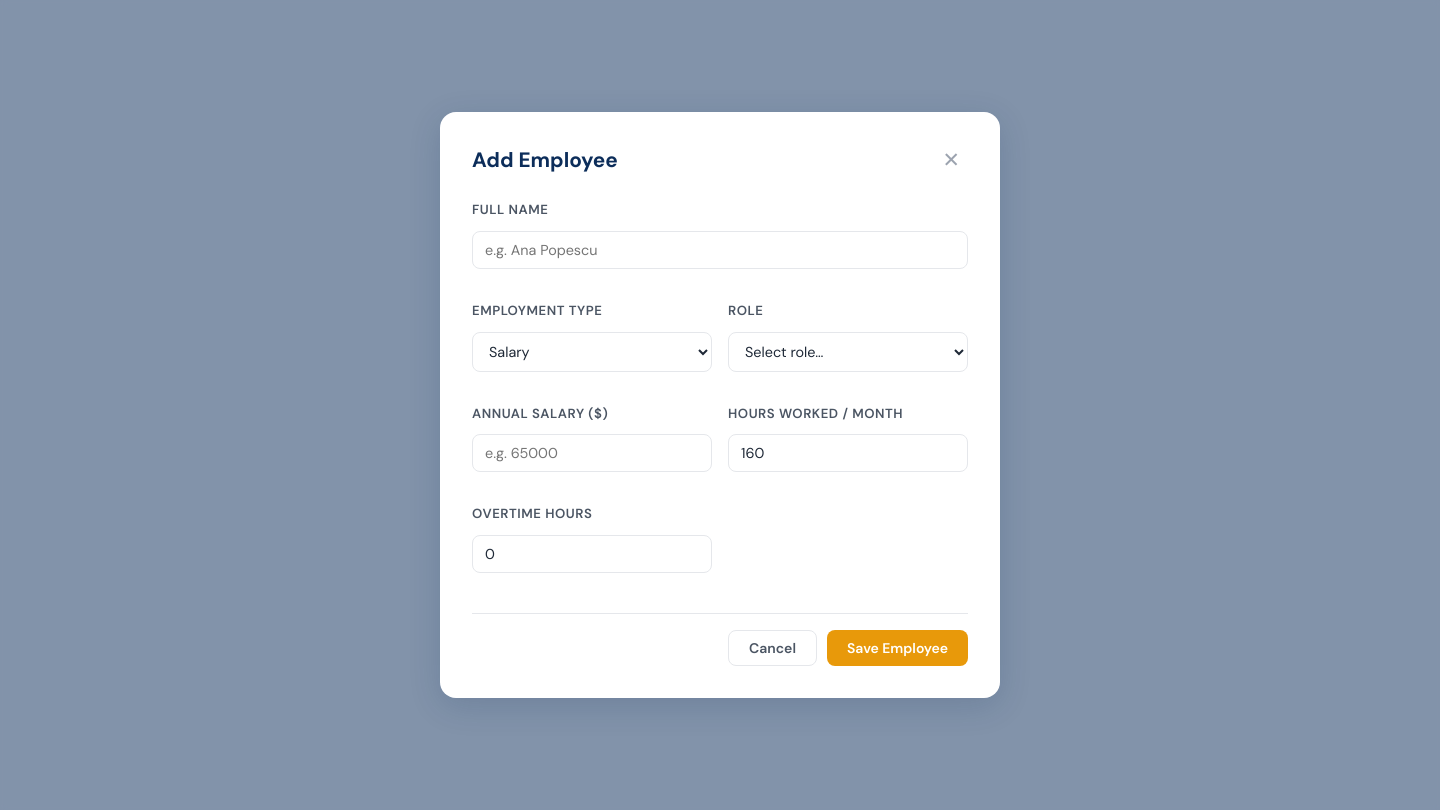
Scenario: EmployeeModal › shows name and role errors when submitted empty
This screenshot has width=1440, height=810.
Click the button "Save Employee" at (898, 648), box [827, 630, 968, 666]
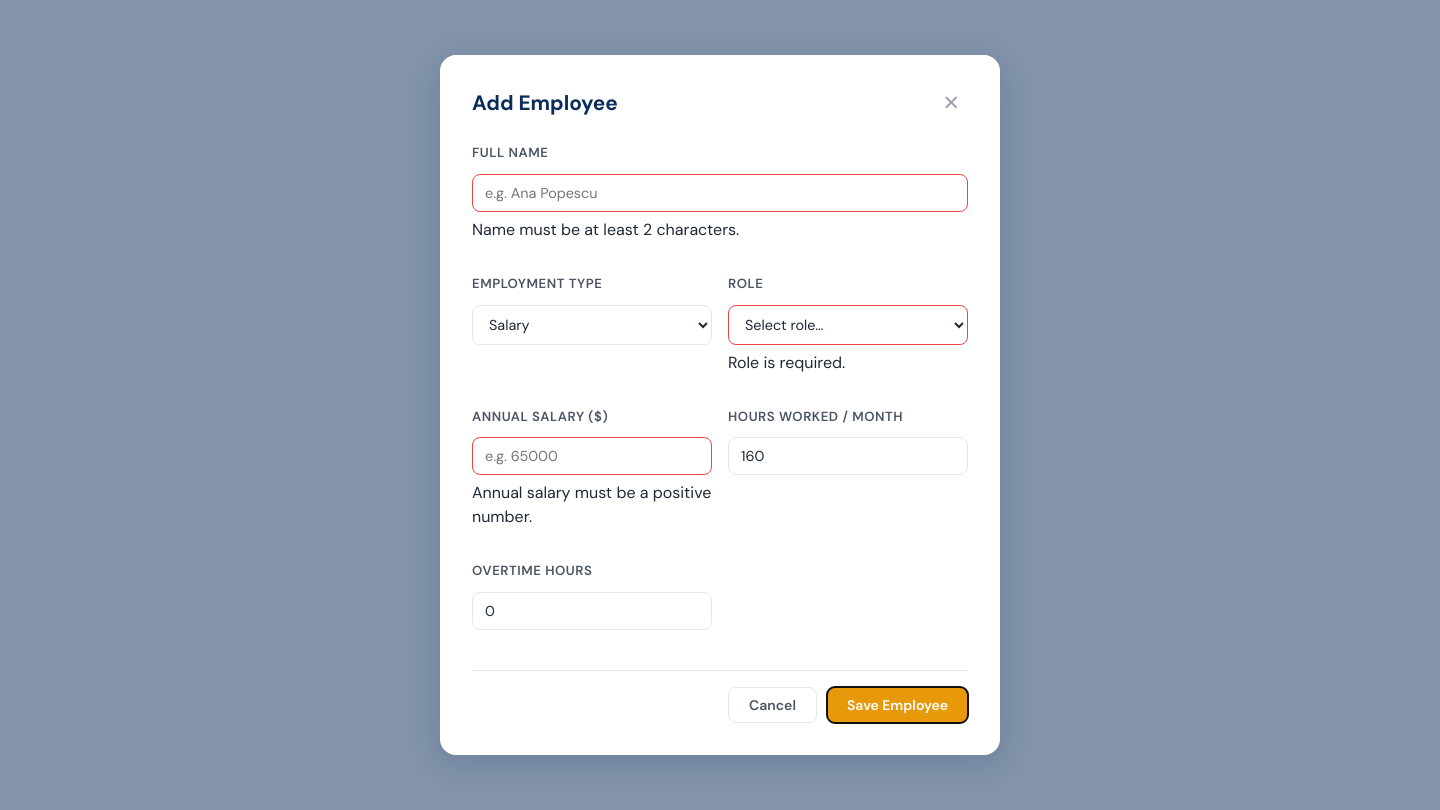
Expected: the text "Name must be at least 2 characters." is shown, [472, 219, 739, 240]
Expected: the text "Role is required." is shown, [728, 352, 845, 372]
